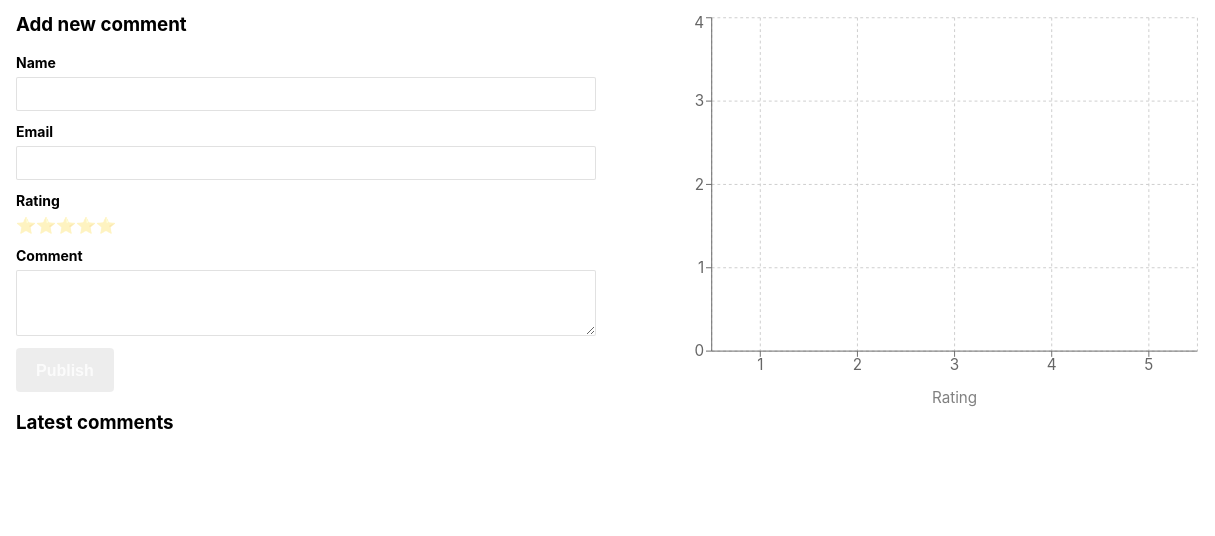
Test: <FeedbackView/> › should update the latest comments and graph when a new comment is added
The width and height of the screenshot is (1215, 536).
Type "Adam" into the field with test id "input-name" at x=306, y=94, box [16,77,596,111]
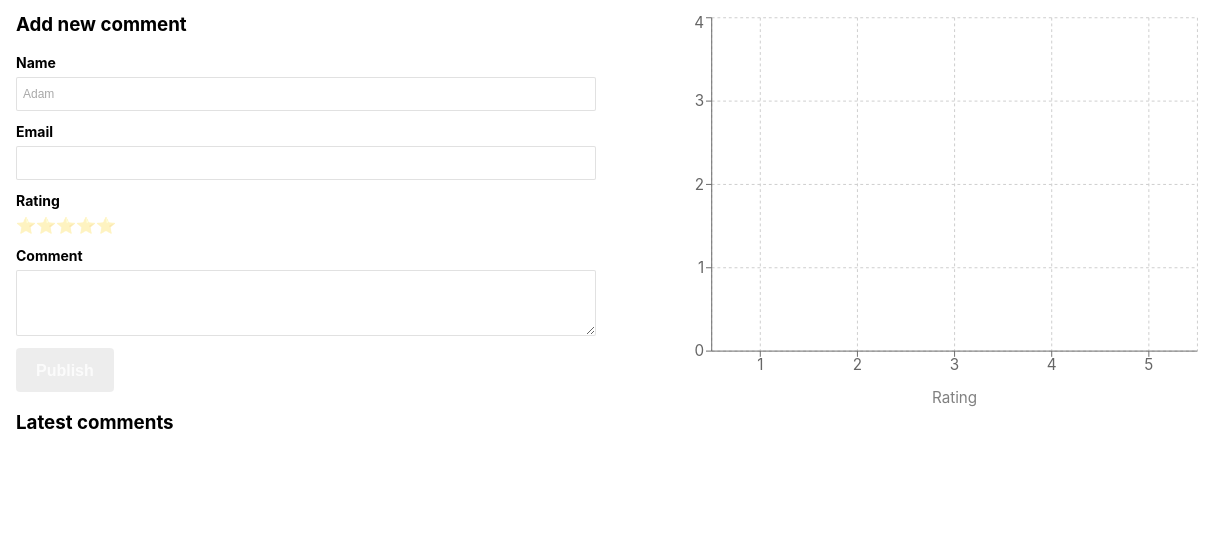
Type "adam@myspace.com" into the field with test id "input-email" at x=306, y=163, box [16,146,596,180]
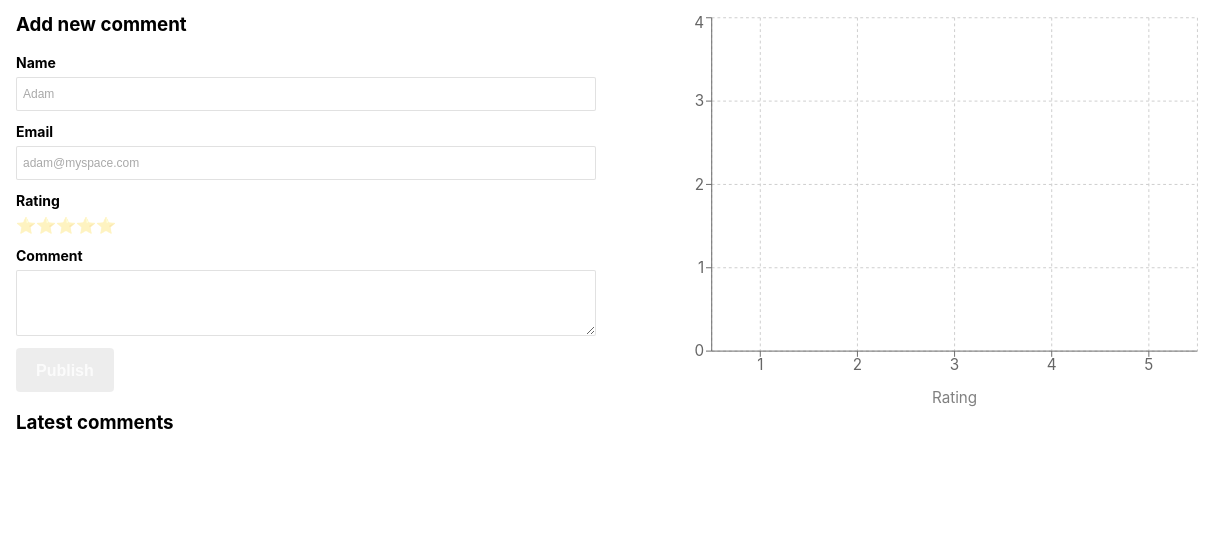
Click the checkbox with test id "input-rating-value-2" at x=46, y=225, box [36,215,56,235]
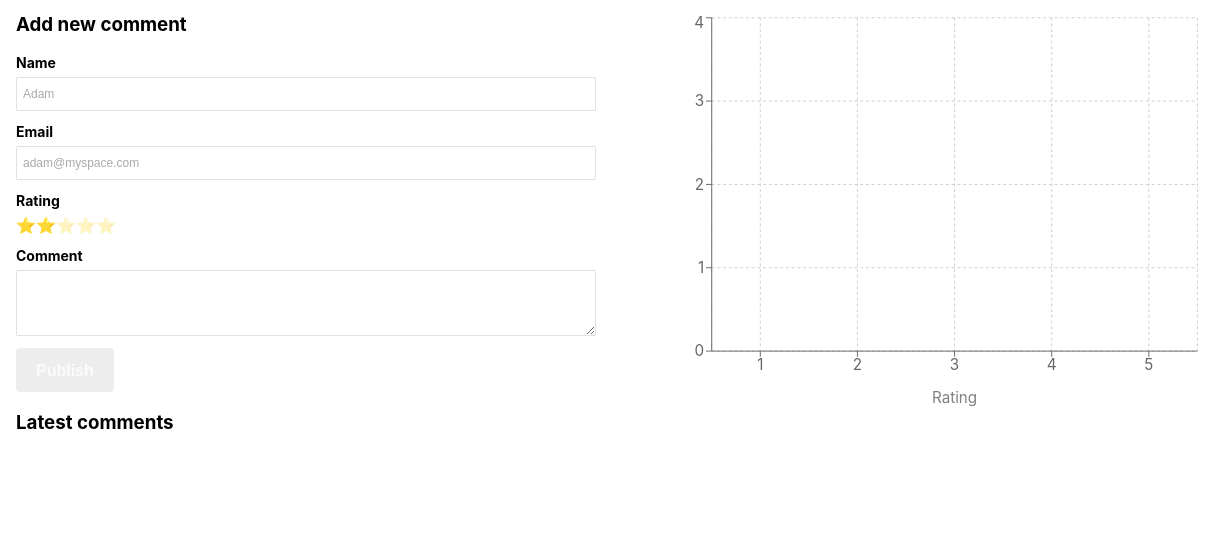
Type "foo bar" into the text box with test id "input-comment" at x=306, y=303, box [16,270,596,336]
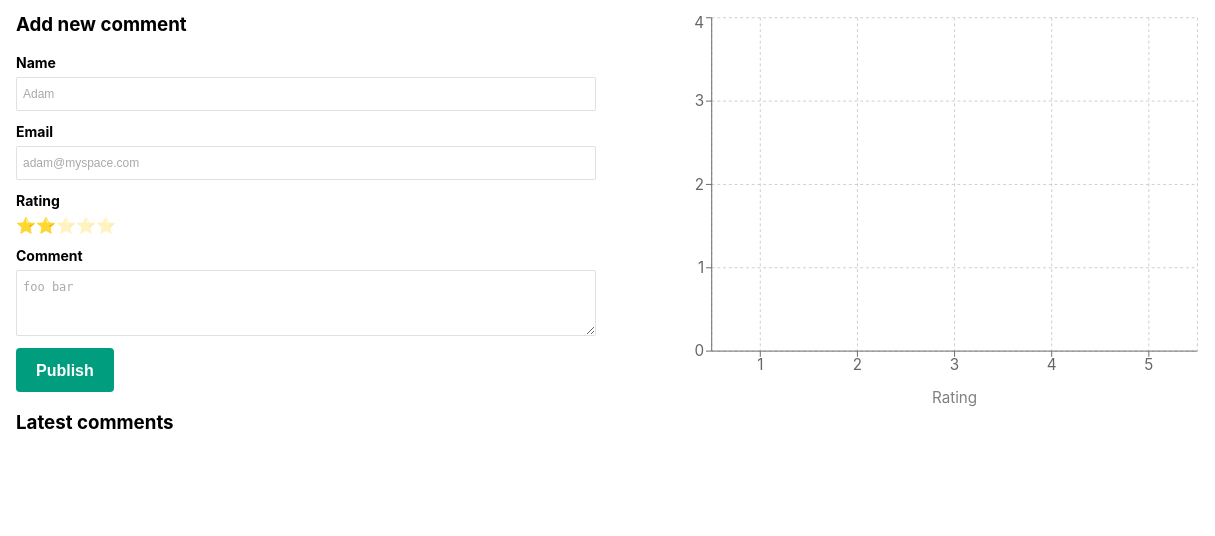
Click the button "Publish" at x=65, y=370, box [16,348,114,392]
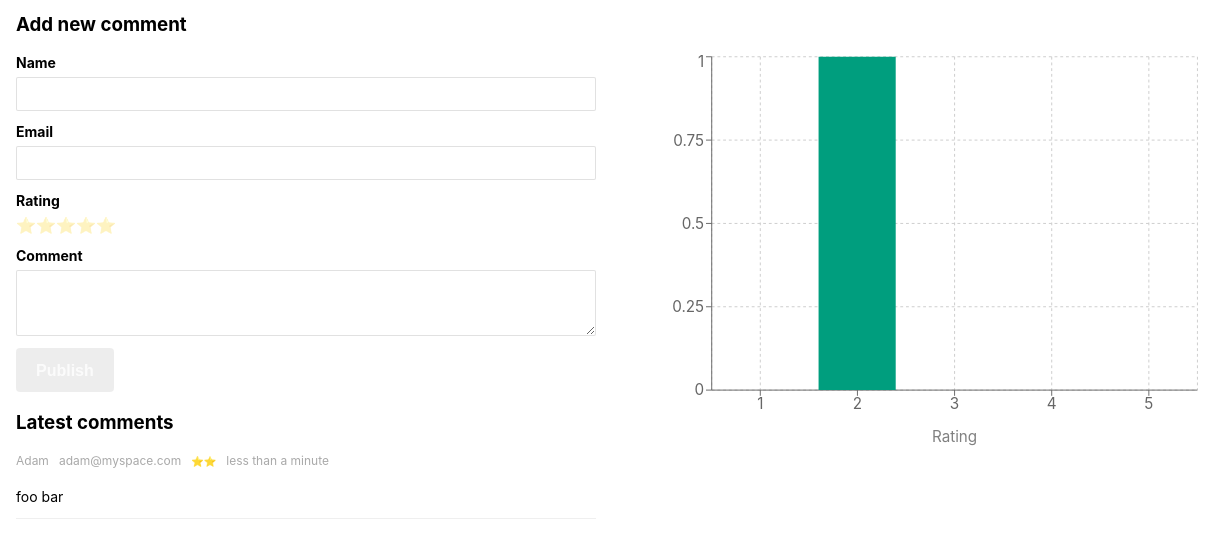
Expected: the text with test id "comment-name" reads "Adam", [16,453,49,468]
Expected: the text with test id "comment-email" reads "adam@myspace.com", [59,453,181,468]
Expected: the text with test id "comment-text" reads "foo bar", [16,488,63,505]
